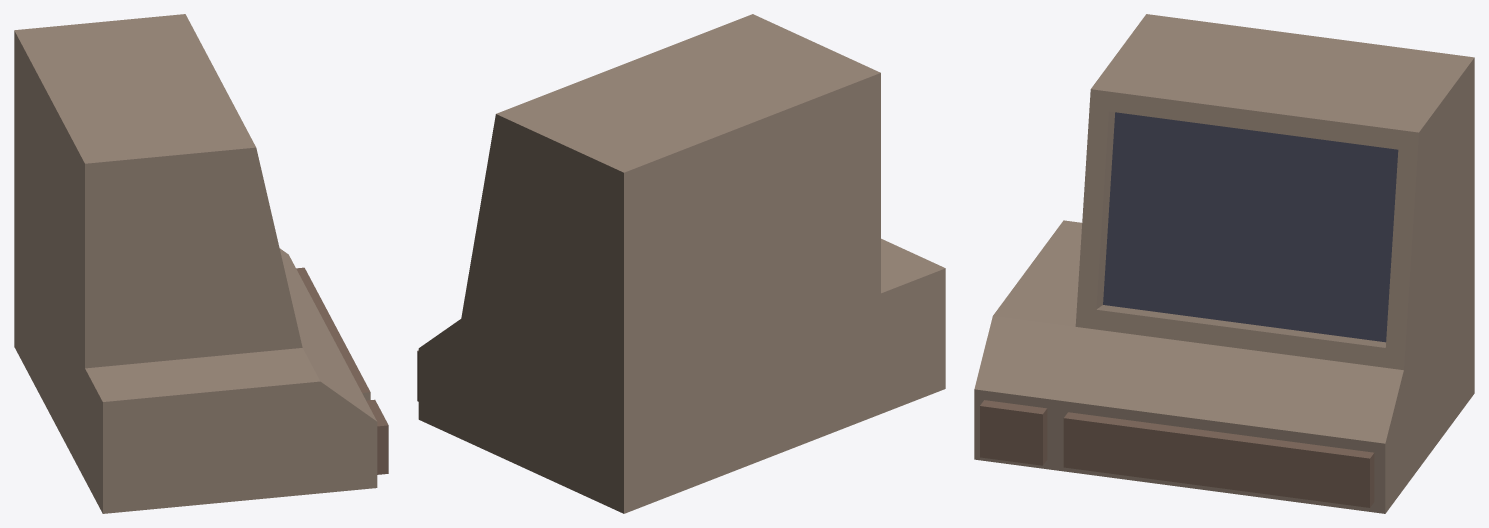
The model's file is CASH revised.fbx.
3 renders of one model, left to right at view 1: azimuth 30°, elevation 25°; view 2: azimuth 150°, elevation 25°; view 3: azimuth 270°, elevation 25°, orthographic. The views are drawn at different scales.
Visible parts, largest first — view 1: cash register; view 2: cash register; view 3: cash register.
Boxes of the visible parts, box(x1,y1,x2,y2) form: cash register: box(14, 14, 388, 513); cash register: box(417, 14, 945, 513); cash register: box(974, 14, 1474, 513).
Size of the model in its own units: 1.73 by 2.04 by 1.51.
